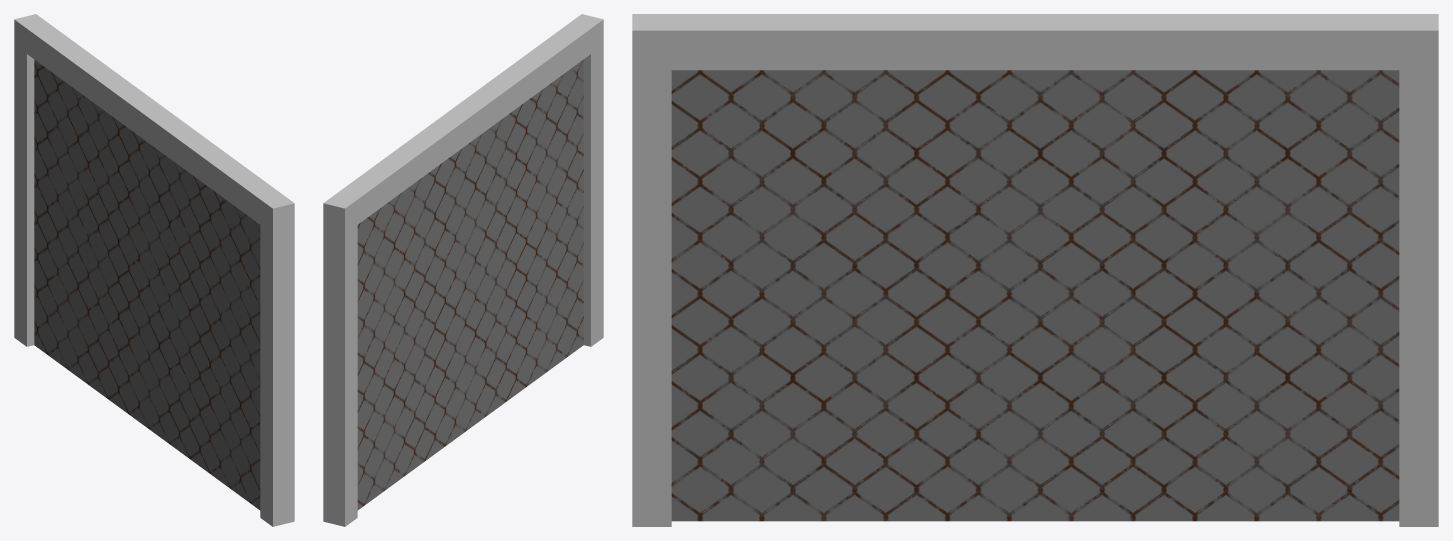
File: fence.fbx
3 views of the same model, side by side, from view 1: azimuth 30°, elevation 25°; view 2: azimuth 150°, elevation 25°; view 3: azimuth 270°, elevation 25° (orthographic). The views are drawn at different scales.
Parts seen in each view (by area): view 1: Cube.001; view 2: Cube.001; view 3: Cube.001.
Part boxes in pixels (left/top/right/bottom): Cube.001: left=14, top=14, right=294, bottom=526; Cube.001: left=323, top=14, right=603, bottom=526; Cube.001: left=632, top=14, right=1438, bottom=526.
Size of the model in its own units: 39.3 by 545 by 803.
